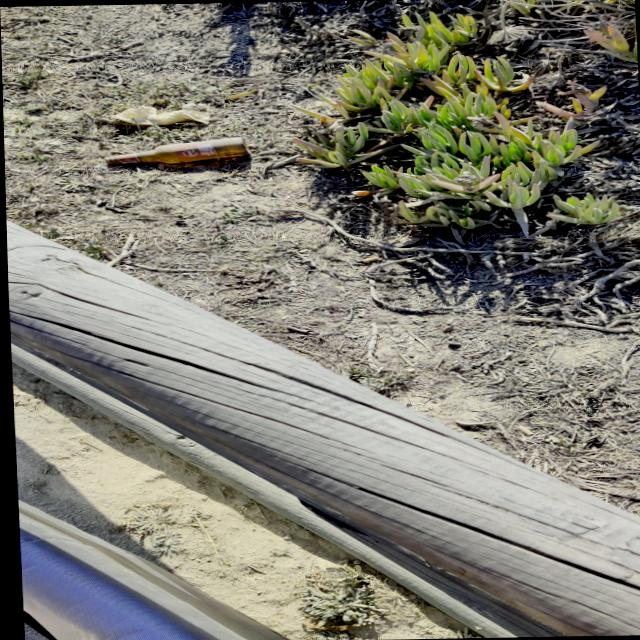Bottle-Glass: (72, 132, 262, 182)
Plastic: (97, 101, 216, 128)
